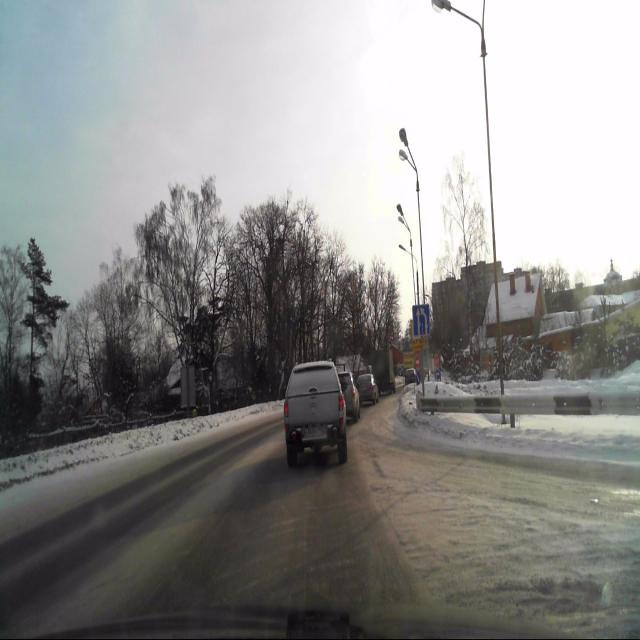road sign: (412, 304, 430, 337)
